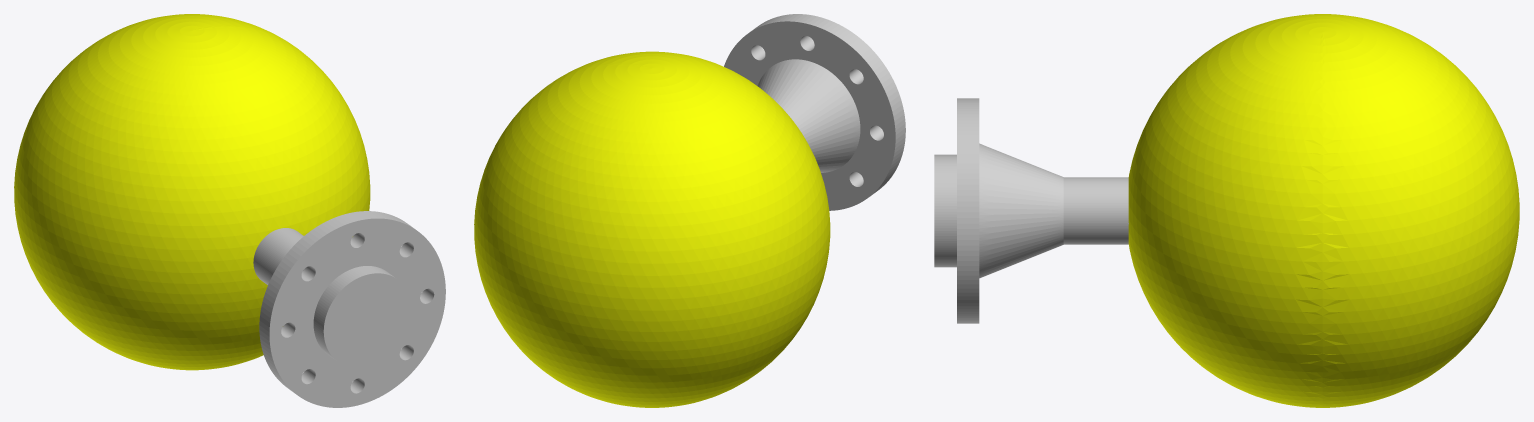
The model's file is rokubi.dae.
The picture shows the model from 3 angles, left to right: view 1: azimuth 30°, elevation 25°; view 2: azimuth 150°, elevation 25°; view 3: azimuth 270°, elevation 25°; orthographic projection. The views are drawn at different scales.
Parts seen in each view (by area): view 1: node1, node0; view 2: node1, node0; view 3: node1, node0.
Part boxes in pixels (bbox=[...]): node1: bbox=[14, 14, 370, 370]; node0: bbox=[253, 211, 445, 407]; node1: bbox=[474, 51, 830, 407]; node0: bbox=[724, 14, 905, 210]; node1: bbox=[1128, 14, 1519, 407]; node0: bbox=[934, 98, 1128, 323].
Bounding box in the file's own units: 0.07 × 0.104 × 0.07.
